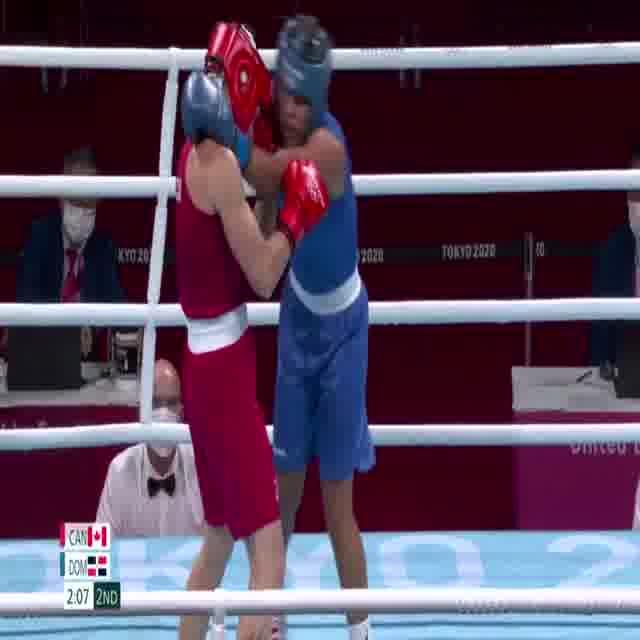blue-player: (178, 14, 377, 640)
red-player: (166, 16, 331, 640)
